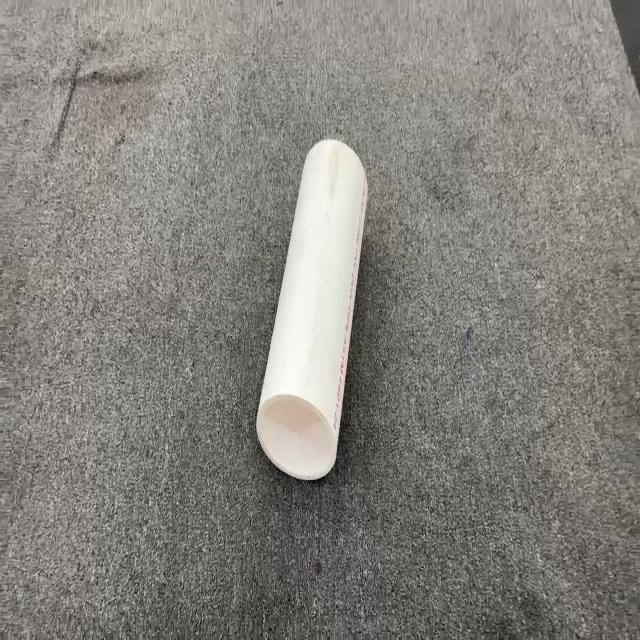coral: (255, 136, 368, 481)
